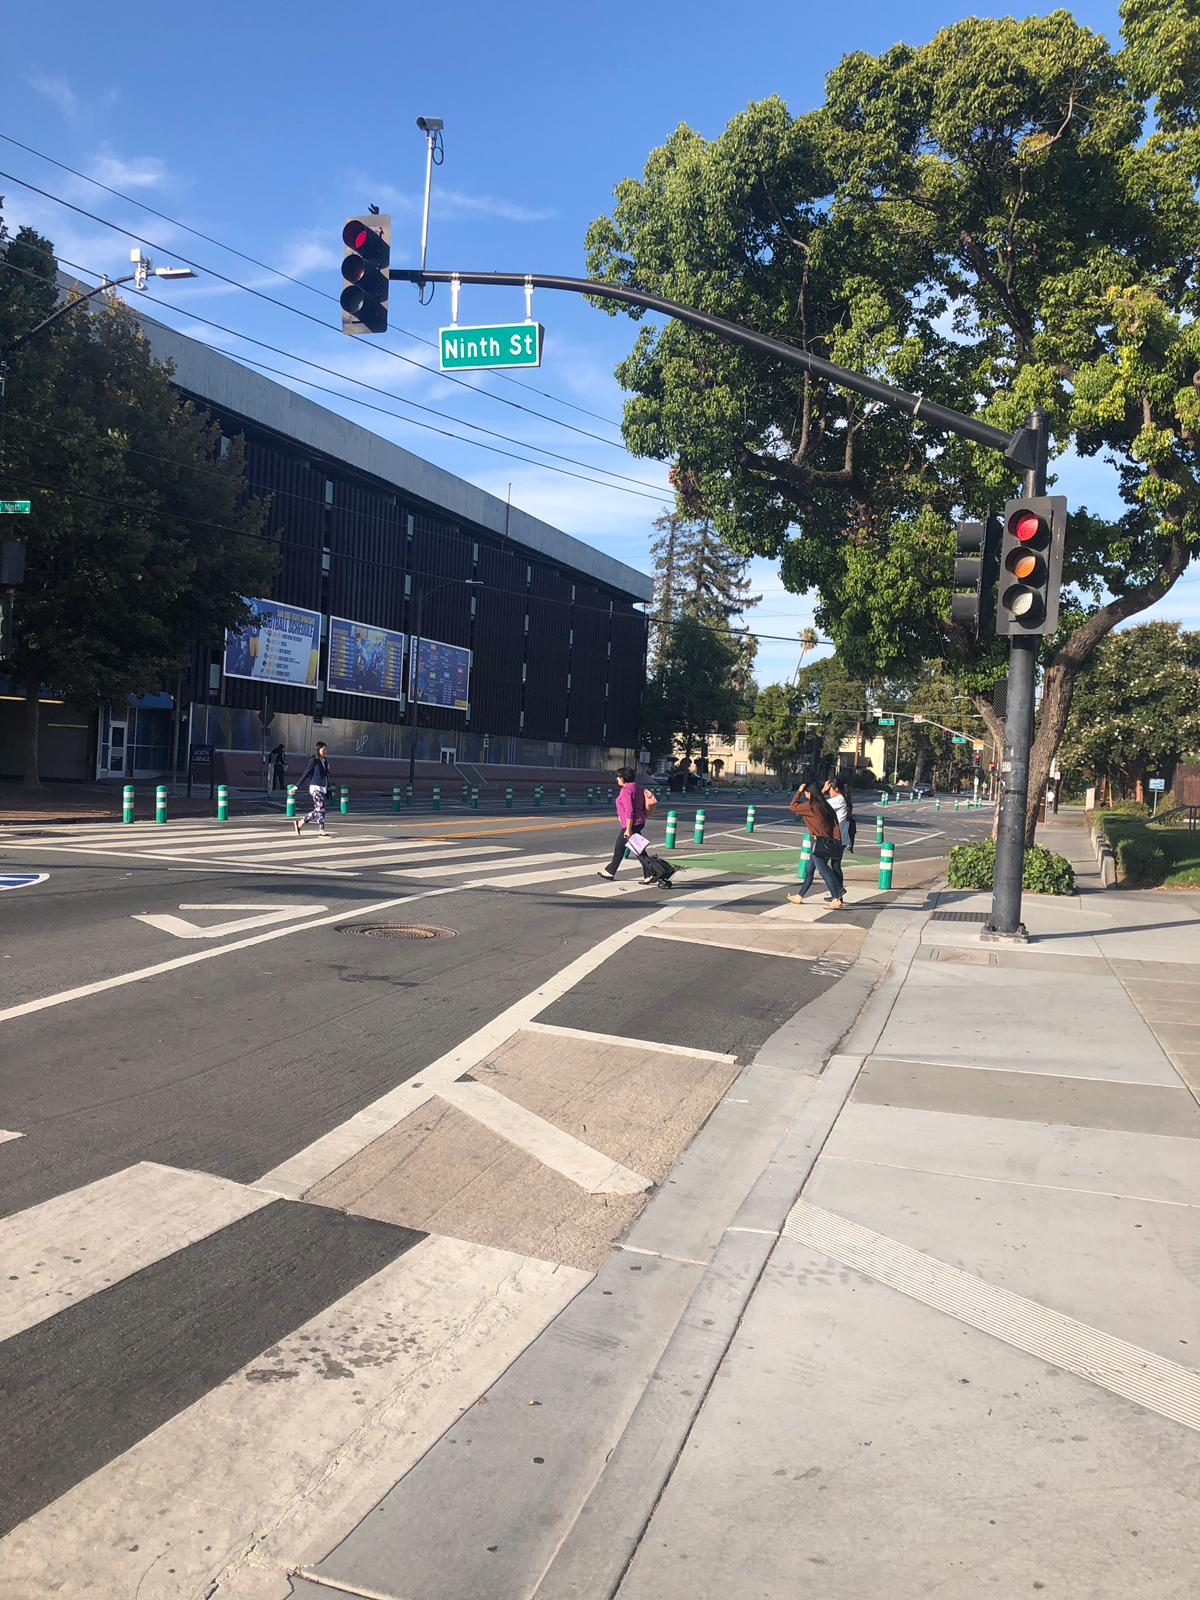plants: (621, 5, 1187, 632), (650, 498, 750, 750), (1095, 646, 1197, 805)
